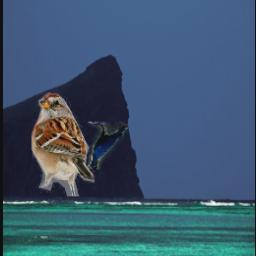Crow: (87, 123, 127, 171)
Sparrow: (32, 94, 95, 198)
